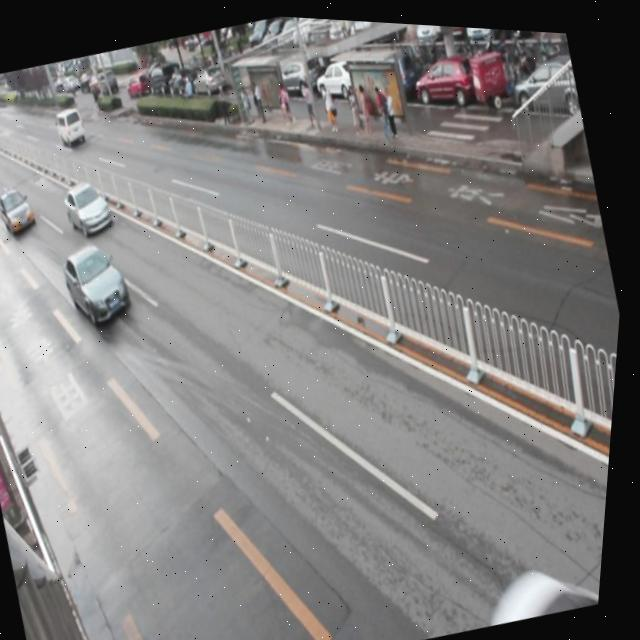car: (59, 234, 141, 329), (60, 172, 121, 241), (0, 183, 44, 241)
